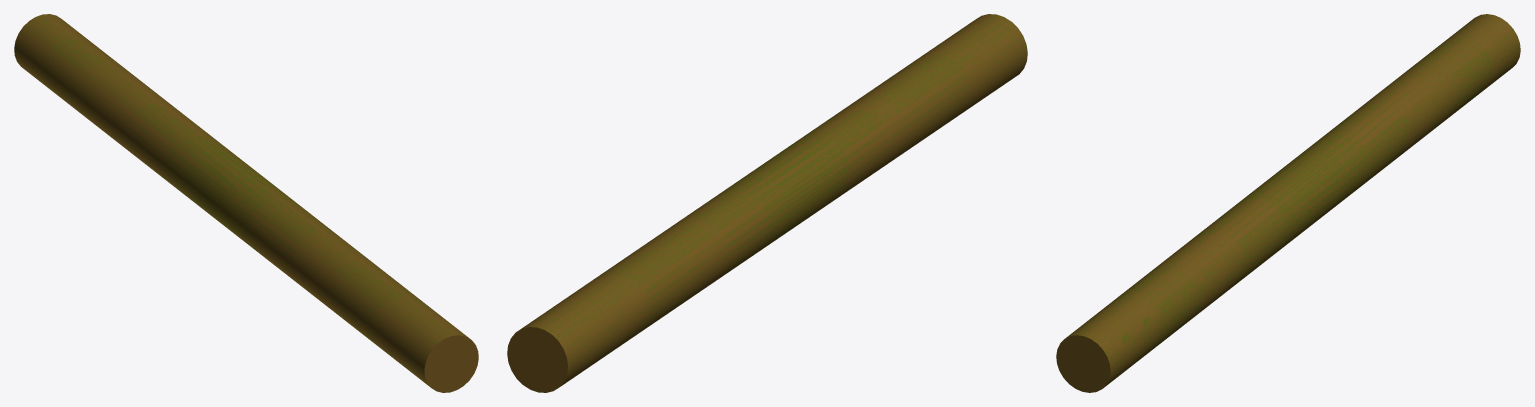
The model's file is original-45.obj.
The picture shows the model from 3 angles, left to right: view 1: azimuth 30°, elevation 25°; view 2: azimuth 150°, elevation 25°; view 3: azimuth 330°, elevation 25°; orthographic projection. The views are drawn at different scales.
Parts seen in each view (by area): view 1: mesh79/mesh79-geometry#mesh79-geometry; view 2: mesh79/mesh79-geometry#mesh79-geometry; view 3: mesh79/mesh79-geometry#mesh79-geometry.
Part boxes in pixels (<box>): mesh79/mesh79-geometry#mesh79-geometry: <box>14,14,478,392</box>; mesh79/mesh79-geometry#mesh79-geometry: <box>507,14,1027,392</box>; mesh79/mesh79-geometry#mesh79-geometry: <box>1056,14,1520,392</box>.
Bounding box in the file's own units: 0.00969 × 0.0133 × 0.1268.
